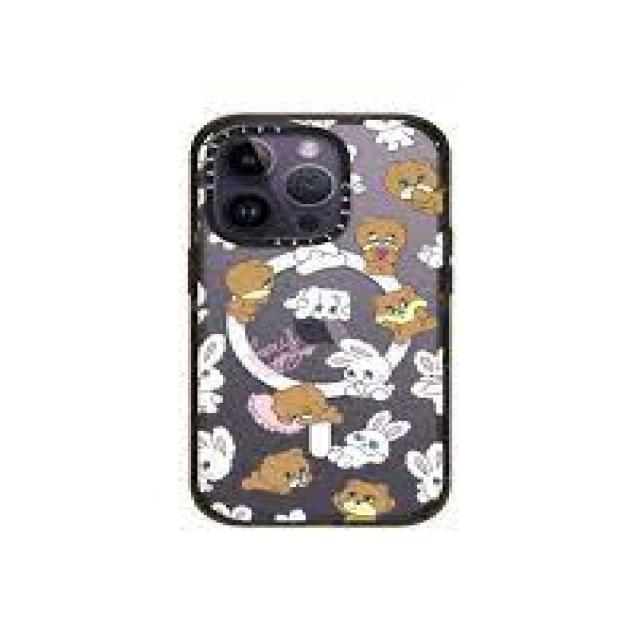lens: (211, 130, 347, 239)
phone: (192, 114, 454, 526)
